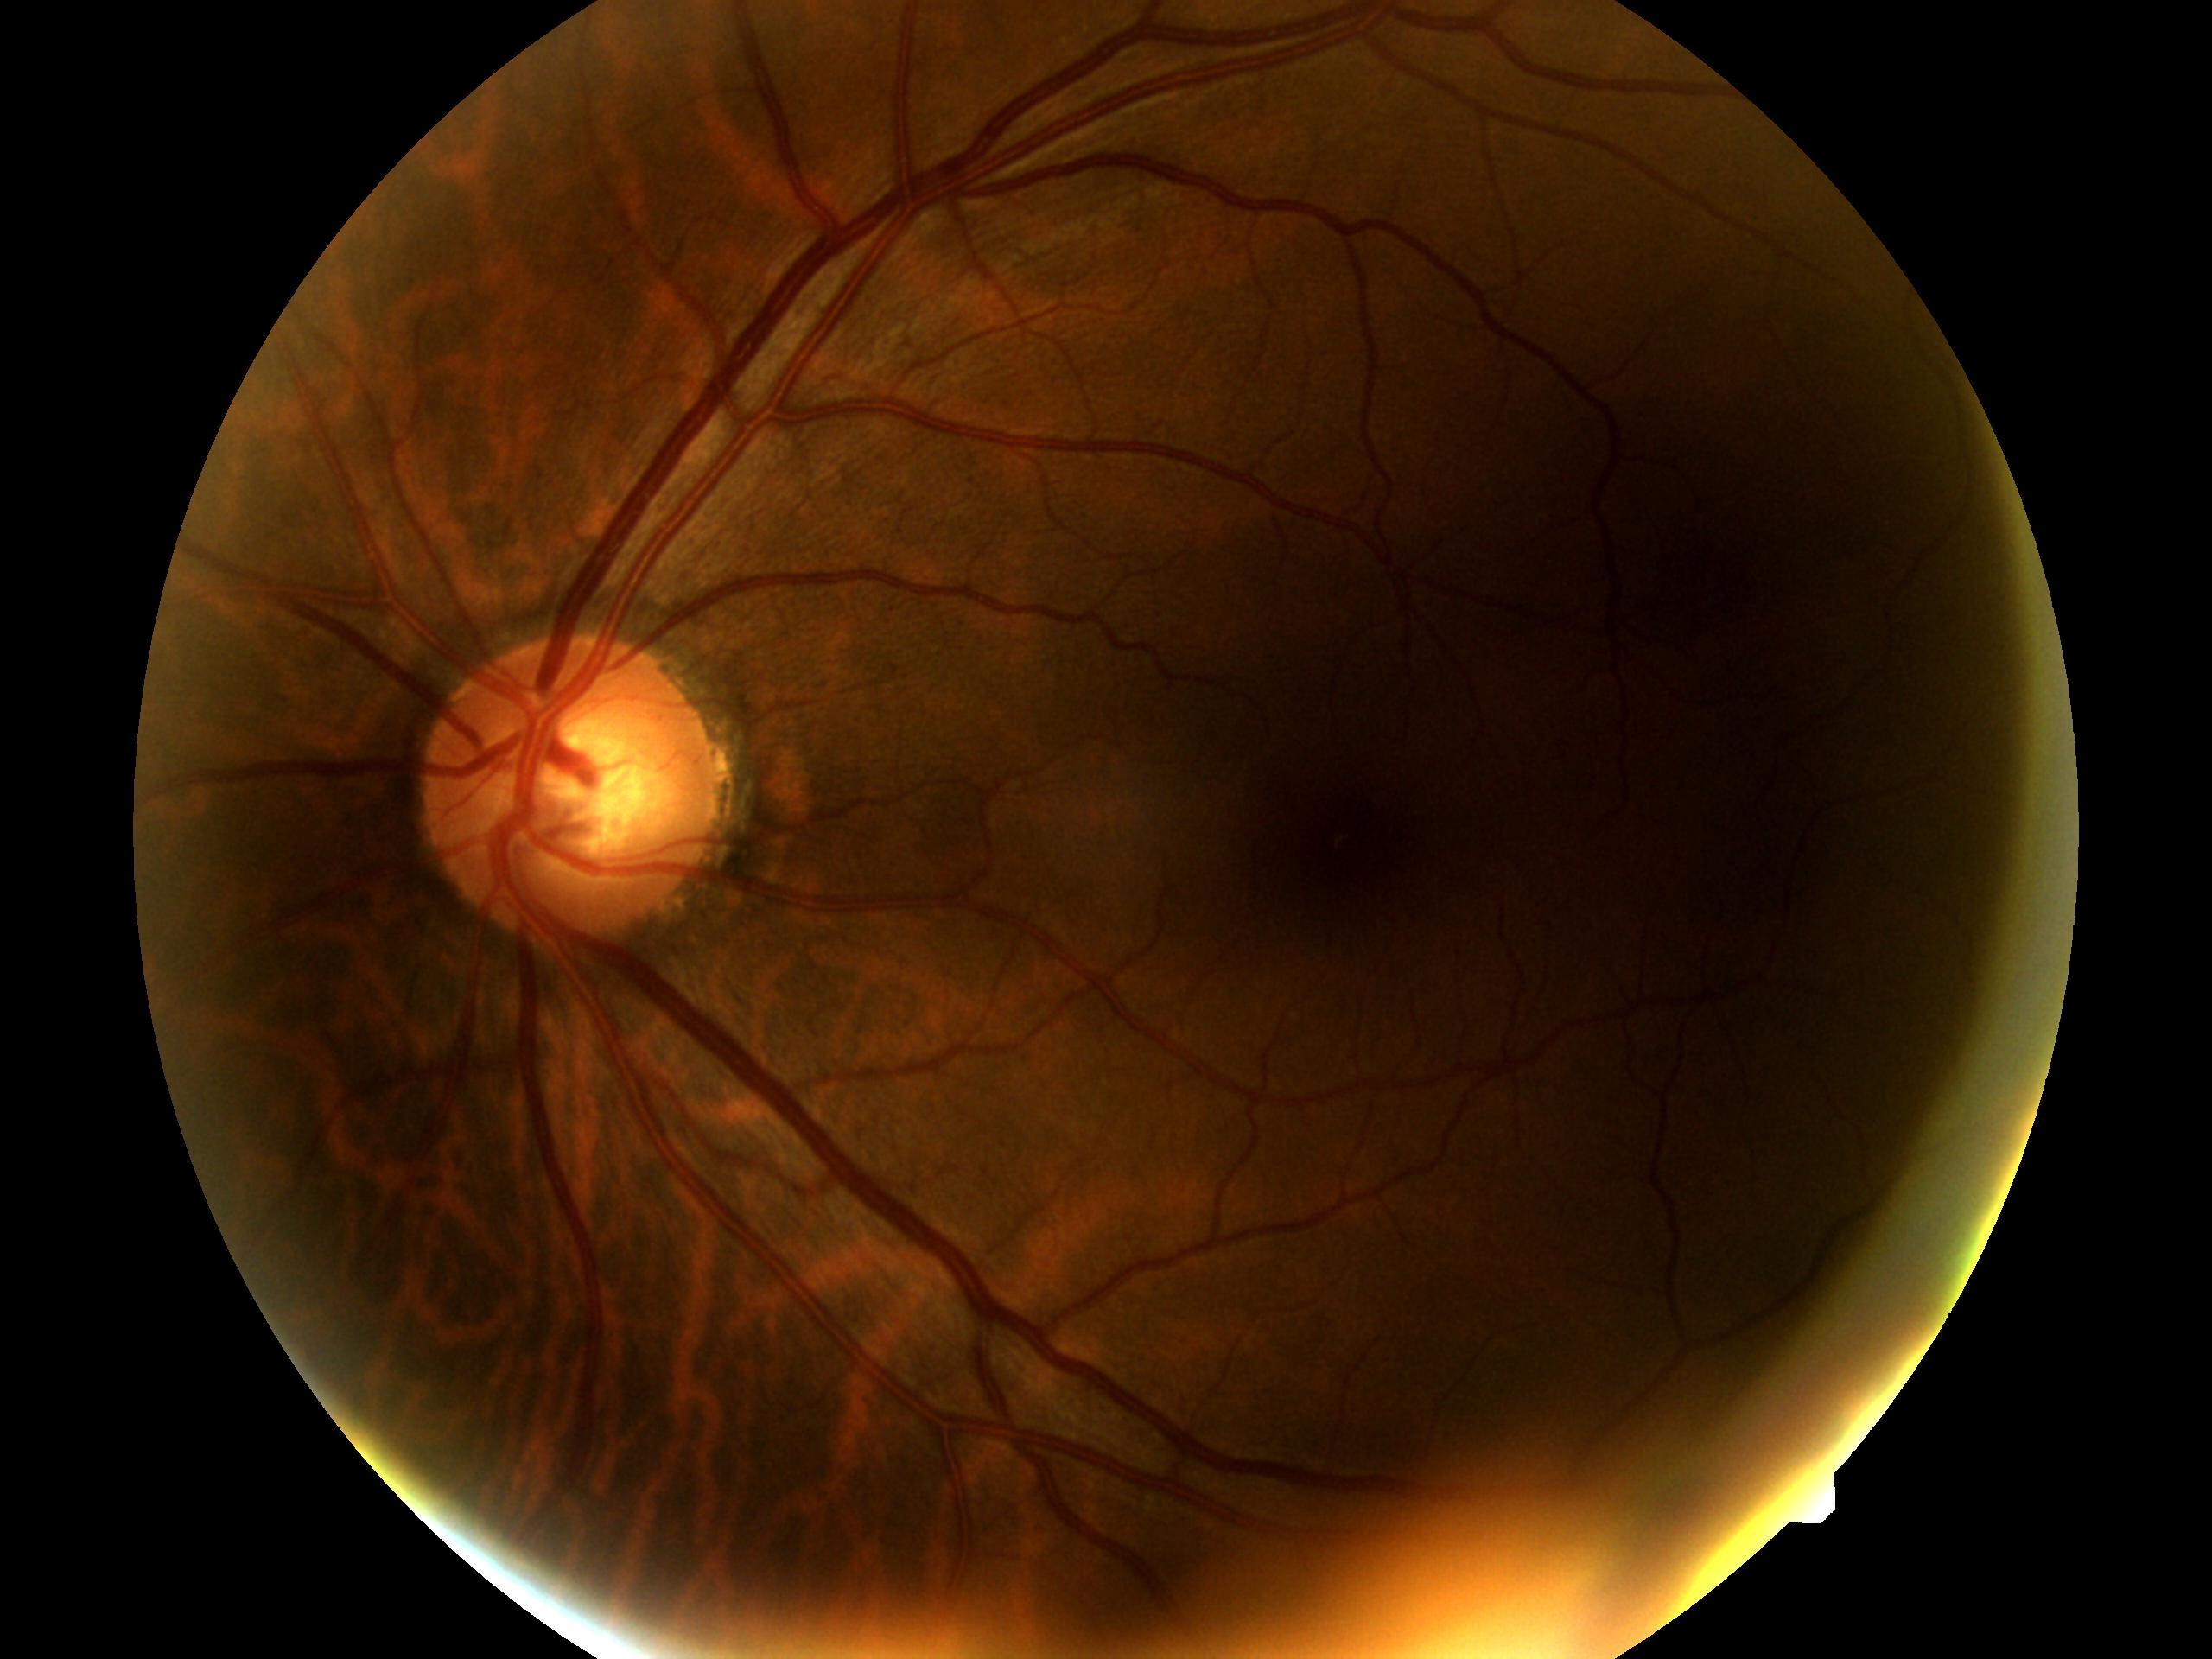Optic-nerve: (404, 619, 732, 955)
notch: (1780, 1464, 1850, 1546)
